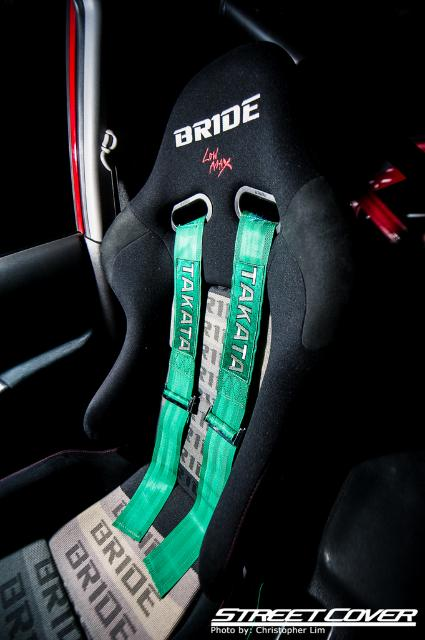Seatbelt: (108, 130, 132, 216)
